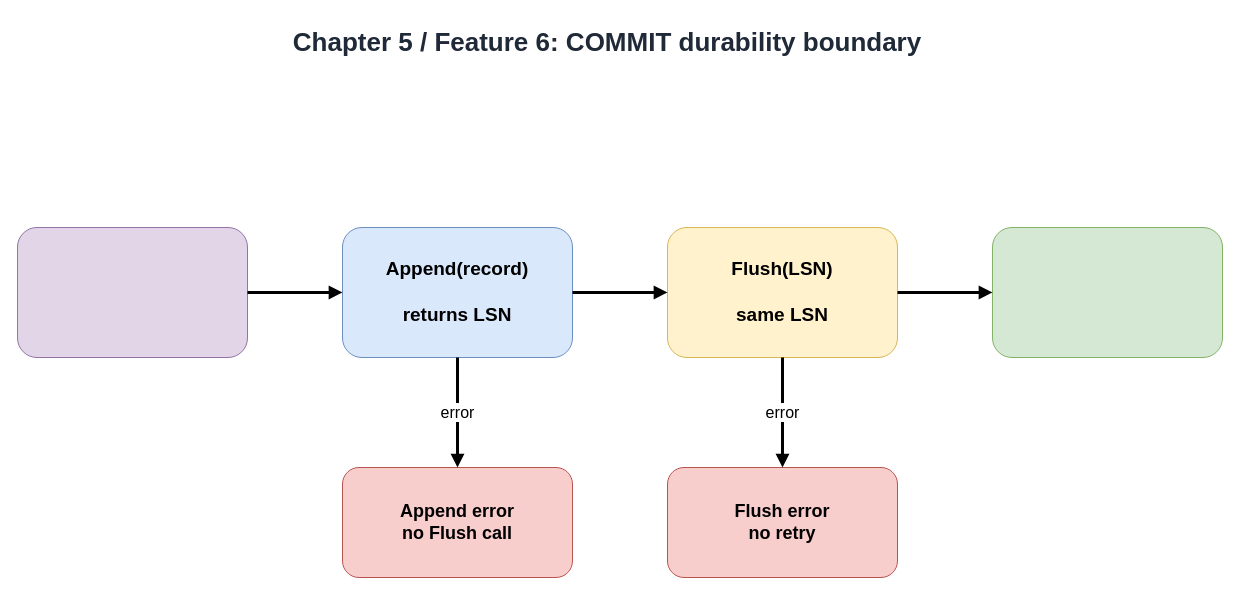
This 1240x595 diagram has some shape labels left out. The box of each missing label's shape, as (x1, y1, x2, y2) in pixels:
Durable COMMIT return LSN: (992, 226, 1222, 358)
Encode COMMIT(tx) 8 bytes: (16, 226, 248, 358)
